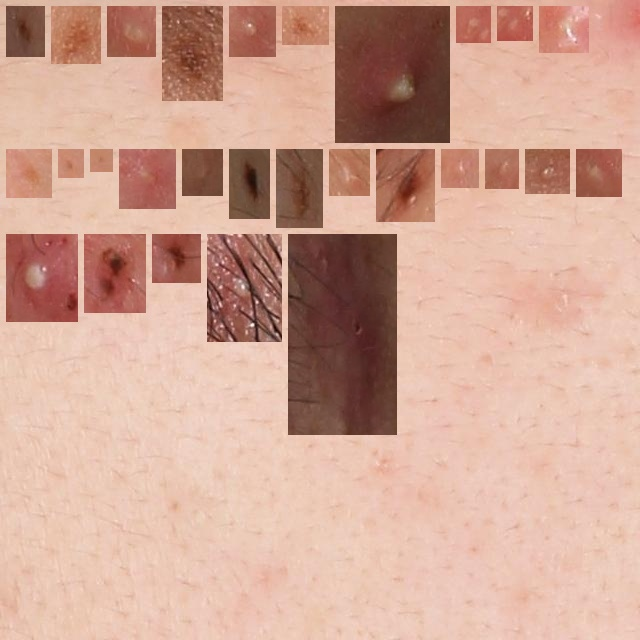hypertrophic_scar: (296, 242, 389, 427)
melasma: (14, 157, 44, 190), (66, 157, 76, 170), (98, 157, 105, 164)
nevus: (170, 14, 215, 93), (92, 242, 138, 305), (384, 157, 427, 214), (284, 157, 315, 220), (59, 14, 93, 56), (237, 157, 262, 211), (160, 242, 193, 275), (14, 14, 37, 49), (290, 14, 321, 37)
pustule: (343, 14, 442, 135), (215, 242, 274, 334), (14, 242, 70, 314), (127, 157, 168, 201), (115, 14, 148, 49), (237, 14, 268, 49), (547, 14, 581, 45), (584, 157, 614, 189), (533, 157, 562, 186), (190, 157, 215, 188), (337, 157, 362, 188), (449, 157, 471, 180), (493, 157, 511, 181), (464, 14, 483, 35), (505, 14, 525, 33)
